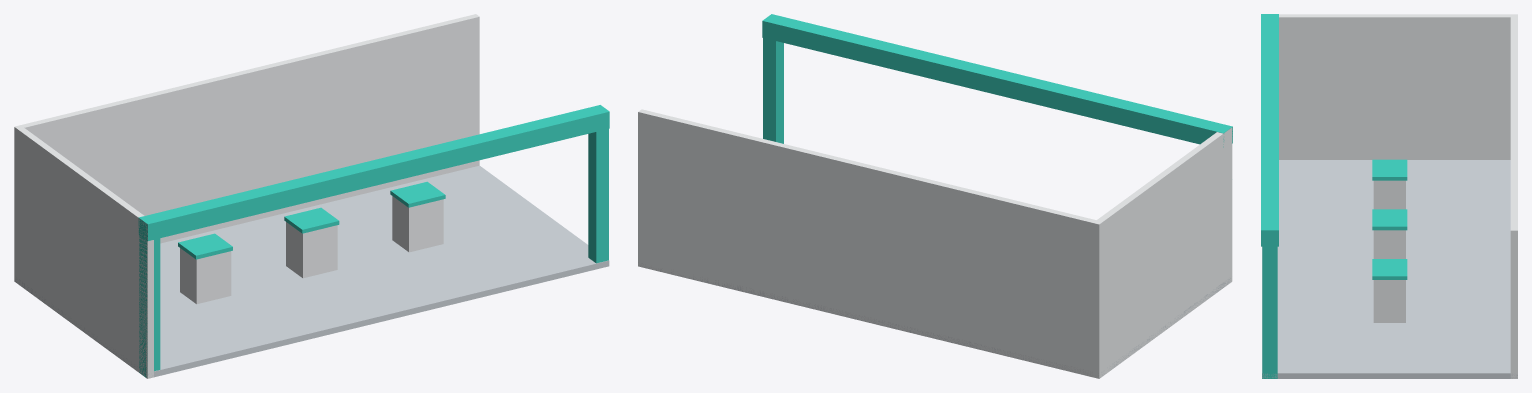
3 renders of one model, left to right at view 1: azimuth 30°, elevation 25°; view 2: azimuth 150°, elevation 25°; view 3: azimuth 270°, elevation 25°, orthographic. The views are drawn at different scales.
Visible parts, largest first — view 1: Exhibition Booth Concept; view 2: Exhibition Booth Concept; view 3: Exhibition Booth Concept.
Boxes of the visible parts, left/top/right/bottom form: Exhibition Booth Concept: left=14, top=14, right=609, bottom=378; Exhibition Booth Concept: left=638, top=14, right=1232, bottom=378; Exhibition Booth Concept: left=1261, top=14, right=1517, bottom=378.
Bounding box in the file's own units: 10 × 3.2 × 5.02.
